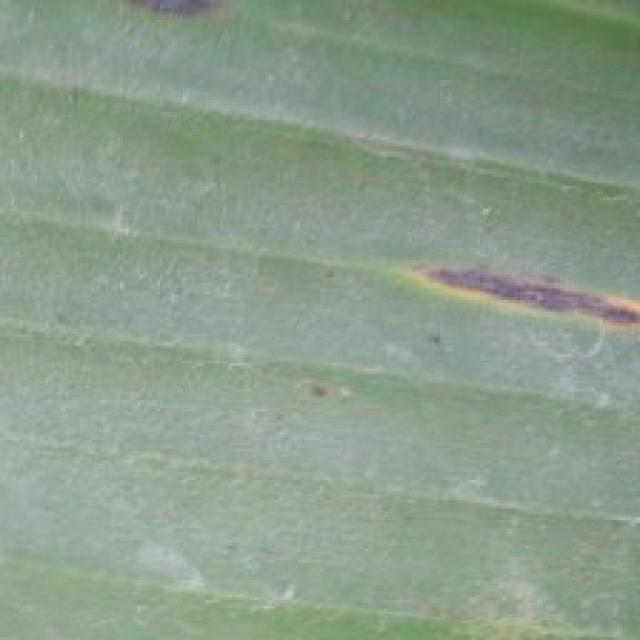Early_leaf_spot: (380, 235, 640, 352), (100, 0, 246, 43), (289, 352, 373, 418)
